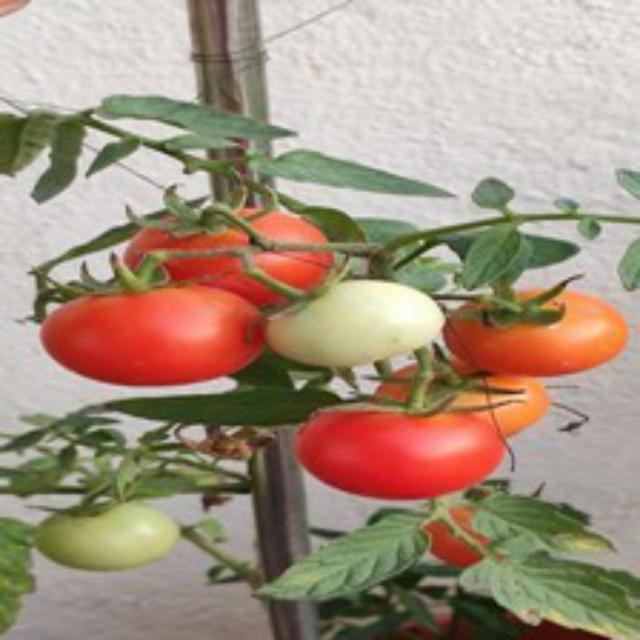tomato: (282, 389, 515, 496), (46, 283, 264, 383), (446, 273, 626, 382)
